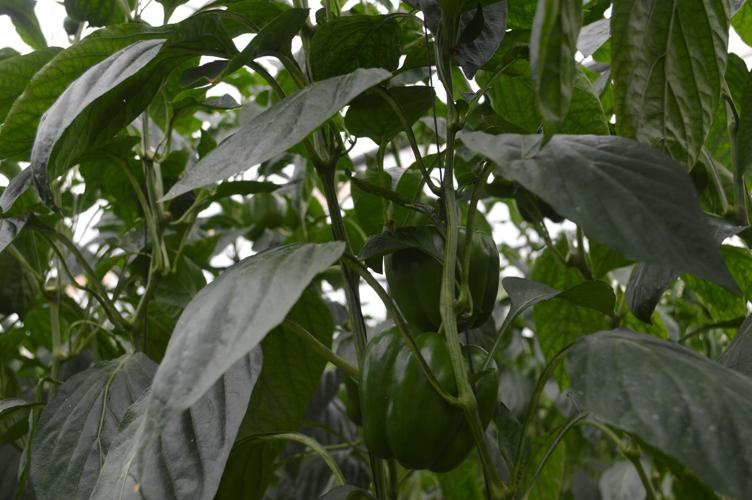BellPepper: (363, 329, 498, 469), (380, 222, 497, 330)
